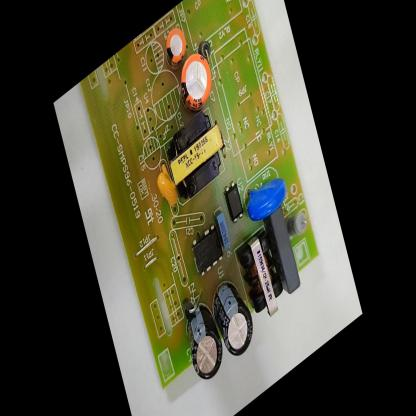Cap1: (170, 42, 219, 123)
Cap2: (156, 18, 192, 78)
Cap3: (209, 268, 261, 370)
Cap4: (177, 289, 230, 393)
MOSFET: (187, 216, 227, 284)
Mov: (240, 159, 292, 234)
Resistor: (285, 202, 309, 243)
Transformer: (160, 92, 233, 211), (234, 216, 291, 333)
